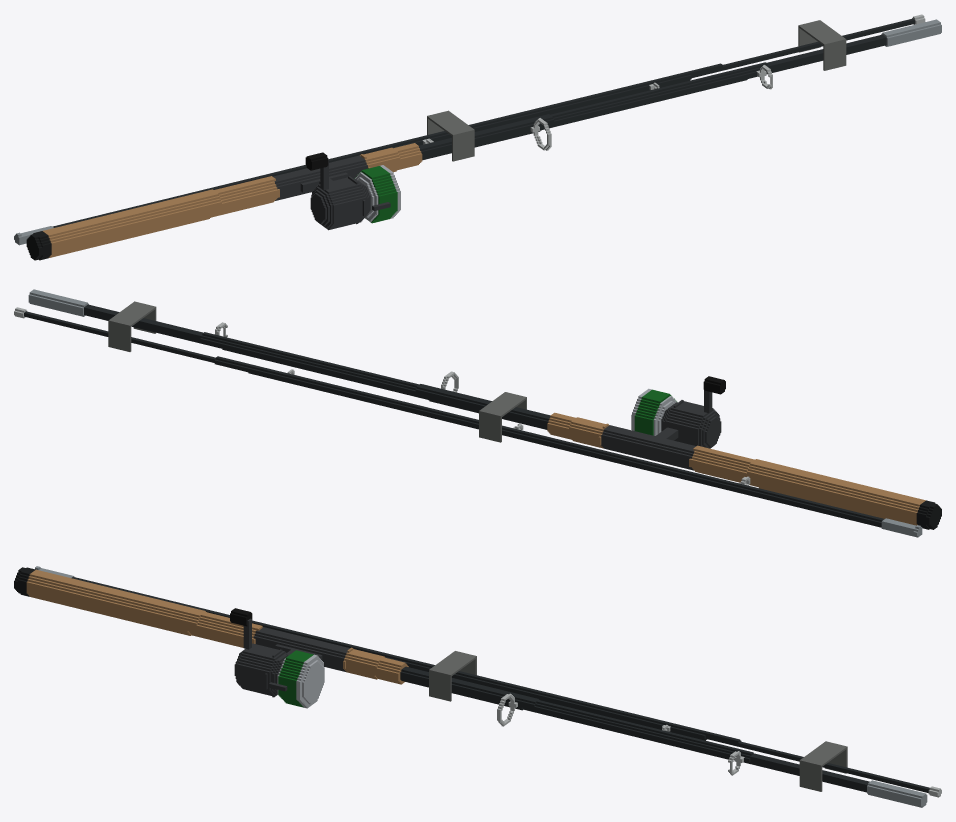
The model's file is fishing_rod_2pc_packed.glb.
3 renders of one model, top to bottom at view 1: azimuth 30°, elevation 25°; view 2: azimuth 150°, elevation 25°; view 3: azimuth 330°, elevation 25°, orthographic.
Visible parts, largest first — view 1: fishing_rod_2pc_packed:compound; view 2: fishing_rod_2pc_packed:compound; view 3: fishing_rod_2pc_packed:compound.
Part boxes in pixels (bbox=[...]): fishing_rod_2pc_packed:compound: bbox=[14, 14, 941, 260]; fishing_rod_2pc_packed:compound: bbox=[14, 289, 941, 537]; fishing_rod_2pc_packed:compound: bbox=[14, 566, 941, 807].
Bounding box in the file's own units: 1 × 0.08 × 0.128.
